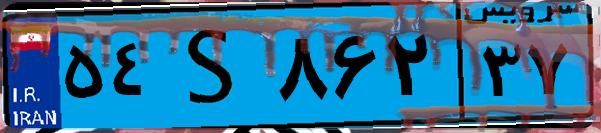2: (385, 28, 445, 110)
3: (475, 38, 525, 113)
4: (110, 28, 158, 98)
5: (57, 26, 110, 100)
6: (330, 28, 385, 110)
7: (525, 38, 570, 115)
8: (270, 28, 330, 110)
S: (158, 12, 270, 120)
